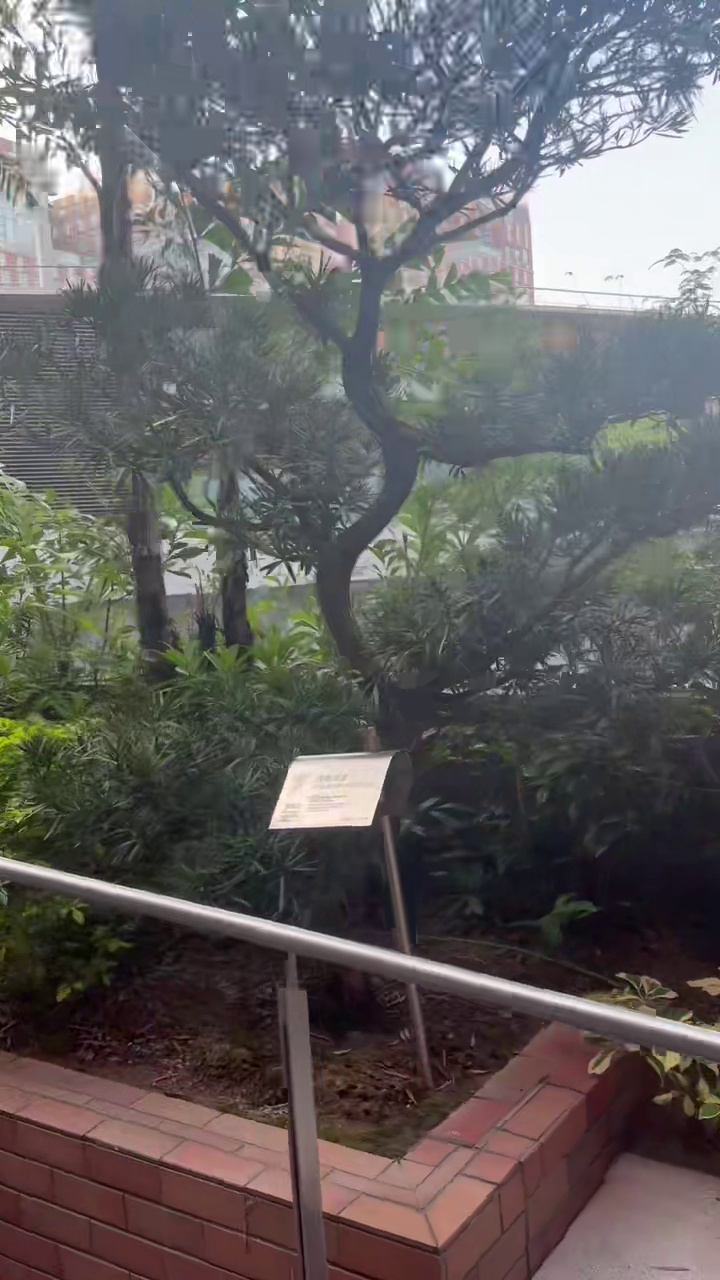Podocarpus macrophyllus: (32, 0, 719, 728)
